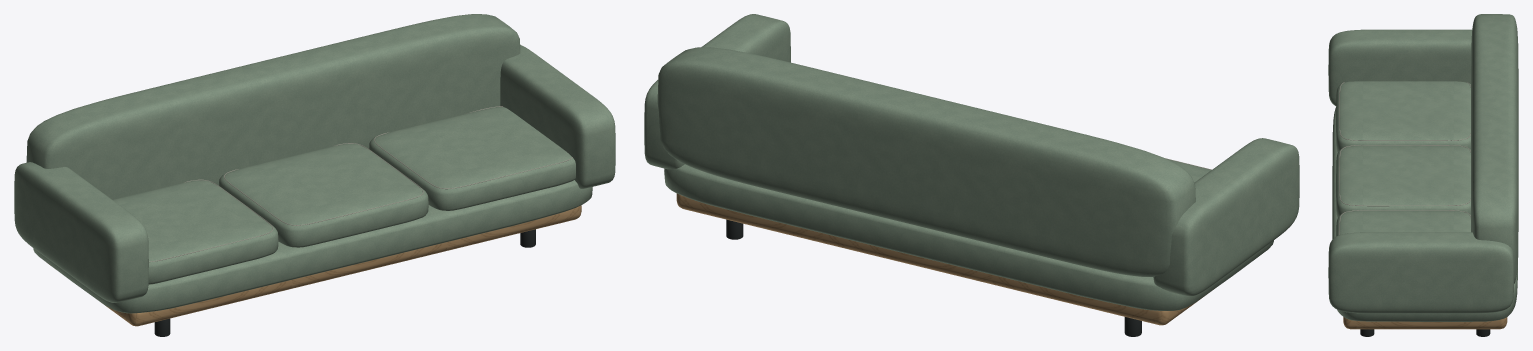
3 renders of one model, left to right at view 1: azimuth 30°, elevation 25°; view 2: azimuth 150°, elevation 25°; view 3: azimuth 270°, elevation 25°, orthographic. The views are drawn at different scales.
Visible parts, largest first — view 1: Low | full width back, Low | upholstered deck, Loose seat.001, Loose seat.002, Low wrap arm, Loose seat, Low wrap arm.001, Walnut | floating plinth; view 2: Low | full width back, Low | upholstered deck, Low wrap arm, Walnut | floating plinth, Low wrap arm.001; view 3: Low wrap arm.001, Low | full width back, Loose seat.001, Loose seat, Low wrap arm, Loose seat.002, Low | upholstered deck, Walnut | floating plinth, Loose seat | upper tailored welt.001, Loose seat | upper tailored welt, Loose seat | upper tailored welt.002.
Part boxes in pixels (box(x1,y1,x2,y2)): Low | full width back: box(26, 14, 520, 199); Low | upholstered deck: box(33, 180, 592, 313); Loose seat.001: box(219, 143, 428, 247); Loose seat.002: box(369, 107, 575, 210); Low wrap arm: box(14, 162, 148, 302); Loose seat: box(113, 180, 278, 284); Low wrap arm.001: box(500, 45, 615, 188); Walnut | floating plinth: box(49, 205, 581, 326); Low | full width back: box(657, 47, 1195, 276); Low | upholstered deck: box(664, 164, 1273, 310); Low wrap arm: box(1153, 138, 1299, 296); Walnut | floating plinth: box(676, 193, 1205, 325); Low wrap arm.001: box(644, 14, 790, 169); Low wrap arm.001: box(1328, 232, 1514, 313); Low | full width back: box(1471, 14, 1518, 283); Loose seat.001: box(1336, 145, 1470, 217); Loose seat: box(1336, 81, 1470, 152); Low wrap arm: box(1328, 29, 1472, 105); Loose seat.002: box(1336, 210, 1470, 236); Low | upholstered deck: box(1332, 107, 1517, 321); Walnut | floating plinth: box(1343, 317, 1507, 329); Loose seat | upper tailored welt.001: box(1339, 145, 1470, 206); Loose seat | upper tailored welt: box(1339, 82, 1470, 140); Loose seat | upper tailored welt.002: box(1339, 210, 1470, 234).
Size of the model in its own units: 2.6 by 0.837 by 0.952.
Materials: 4 (2 with a texture image).
